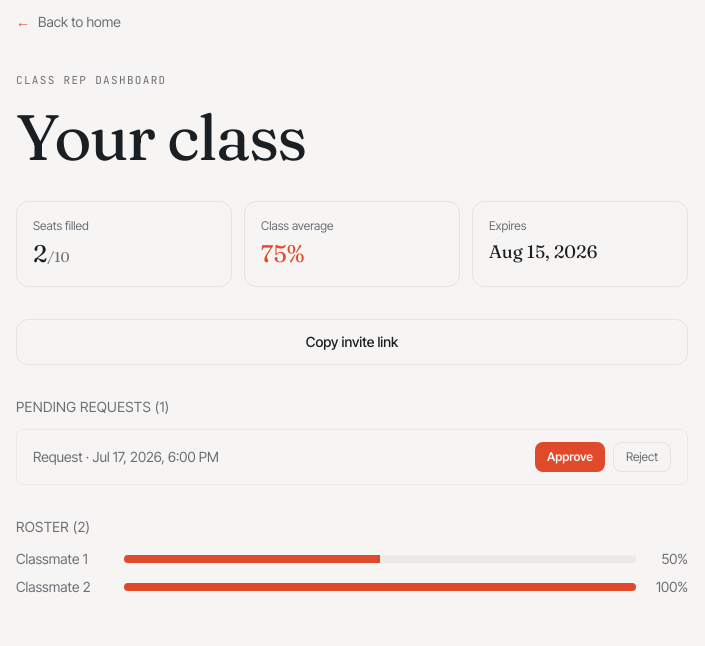
Scenario: RepDashboard › shows a clear message when approving hits the 409 'full' seat cap error
expect the text "Pending requests (1)" is shown: met, box left=16, top=396, right=170, bottom=416
Step 1. Click the button "Approve" → coordinates (570, 456), box left=535, top=442, right=605, bottom=472
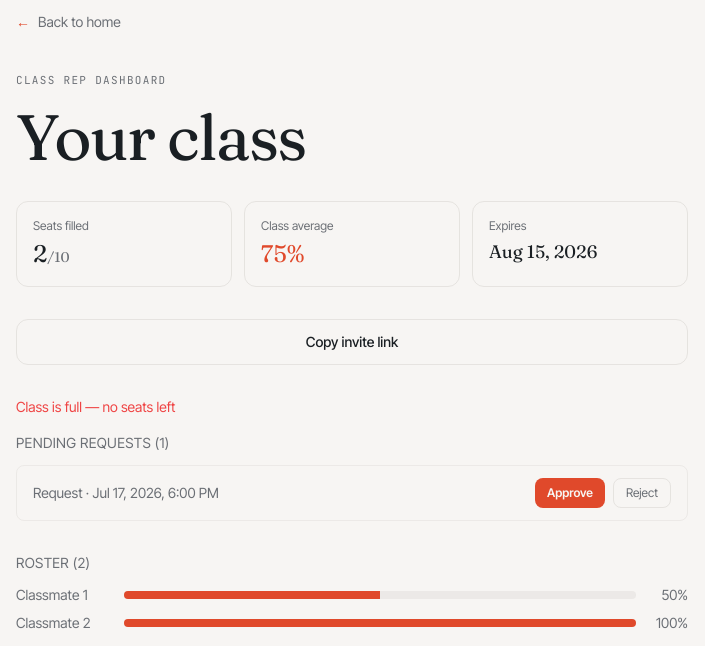
expect the text "Pending requests (1)" is shown: met, box left=16, top=432, right=170, bottom=452
expect the text "Class is full — no seats left" is shown: met, box left=16, top=398, right=176, bottom=414
